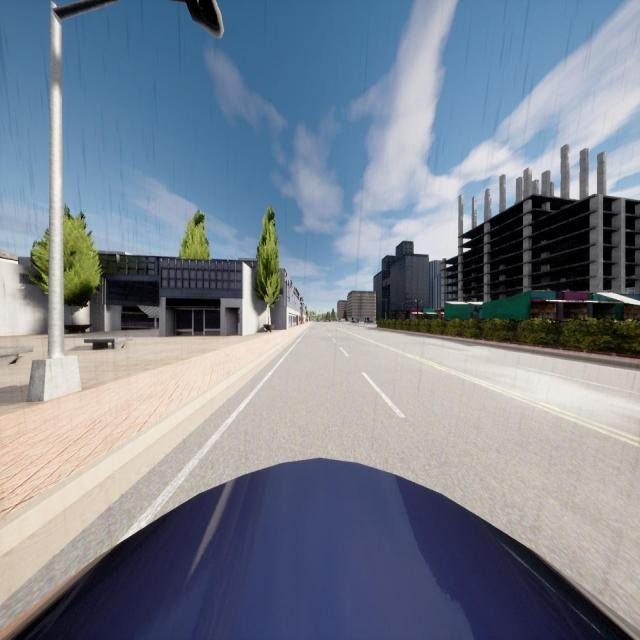Vehicle: (0, 458, 640, 640), (364, 317, 374, 323), (350, 319, 359, 324)
